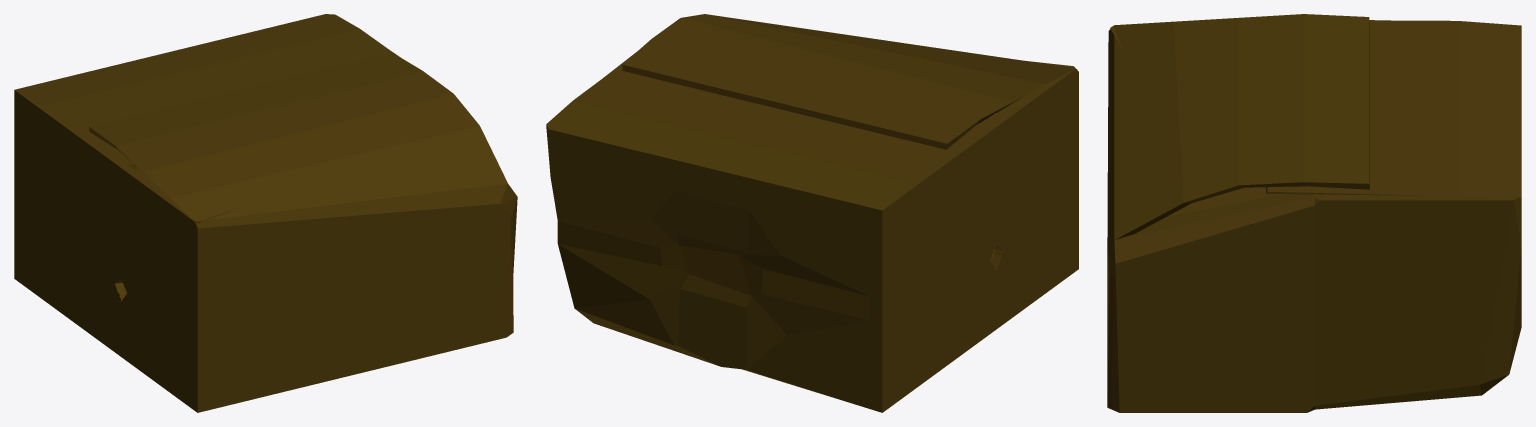
Rendered from Package.fbx.
3 renders of one model, left to right at view 1: azimuth 30°, elevation 25°; view 2: azimuth 150°, elevation 25°; view 3: azimuth 270°, elevation 25°, orthographic. The views are drawn at different scales.
Parts seen in each view (by area): view 1: Cube; view 2: Cube; view 3: Cube.
Boxes of the visible parts, x1,y1,x2,y2 form: Cube: (14, 14, 517, 412); Cube: (546, 14, 1078, 412); Cube: (1107, 14, 1521, 412).
Size of the model in its own units: 204 by 122 by 201.
